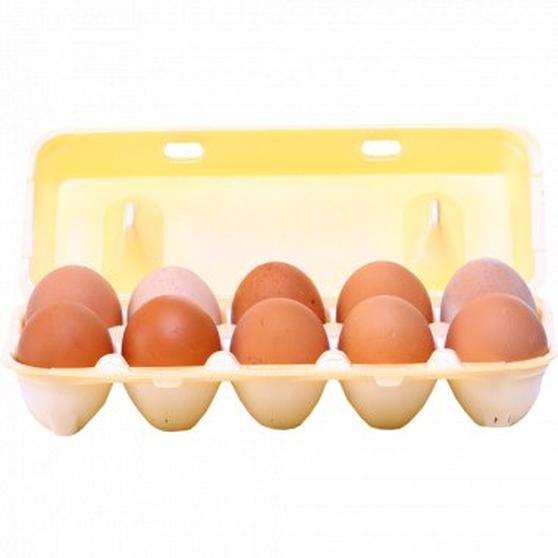egg: (447, 294, 558, 375), (121, 297, 226, 382), (229, 293, 327, 381), (339, 291, 441, 375), (14, 297, 112, 381)
